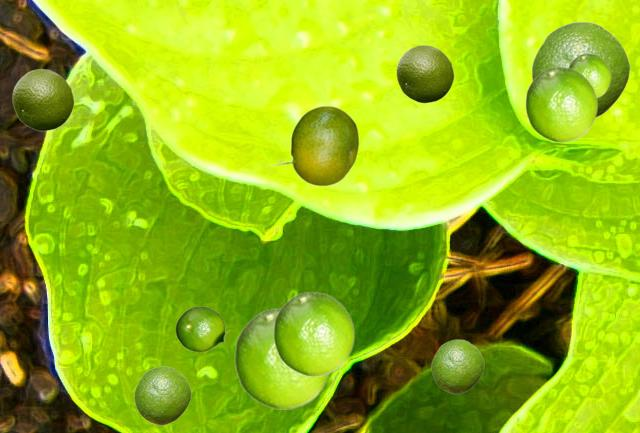calamansi: (234, 307, 331, 408), (531, 21, 629, 117), (267, 105, 358, 185), (273, 291, 354, 375), (525, 66, 597, 141), (12, 68, 73, 130), (396, 44, 453, 102), (134, 366, 190, 424), (431, 339, 483, 393), (175, 306, 230, 351), (568, 53, 610, 98)
